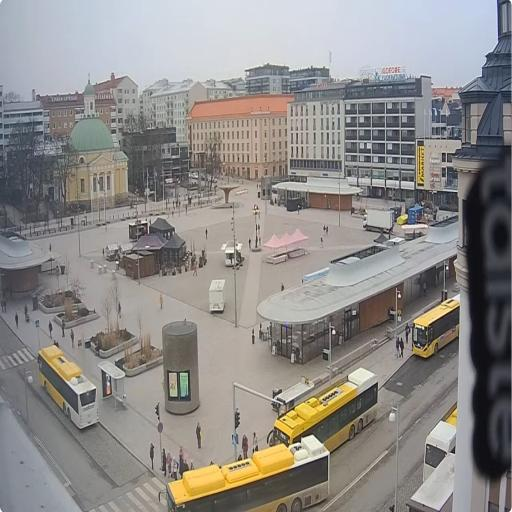bus: (156, 435, 335, 509), (273, 364, 379, 460), (34, 340, 102, 429), (409, 291, 459, 361), (421, 399, 457, 485)
car: (208, 174, 218, 184), (200, 173, 208, 183), (191, 173, 198, 181)
delivery: (362, 207, 394, 235)
